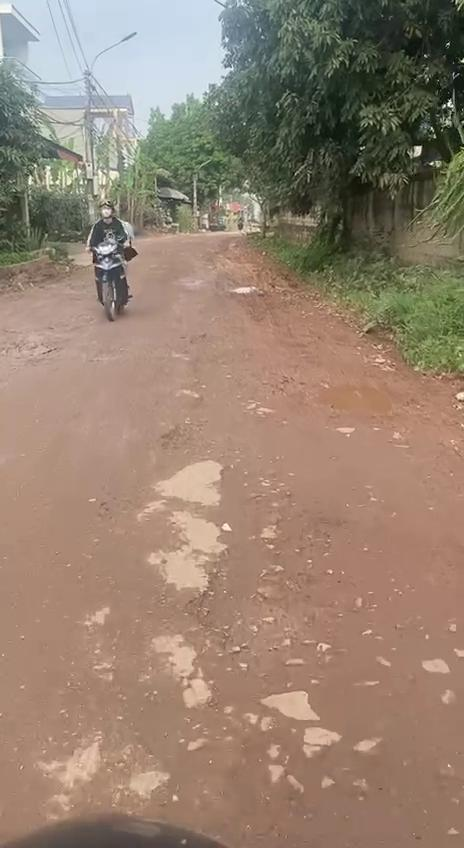pothole: (182, 552, 320, 668), (304, 376, 404, 421), (0, 334, 55, 372)
